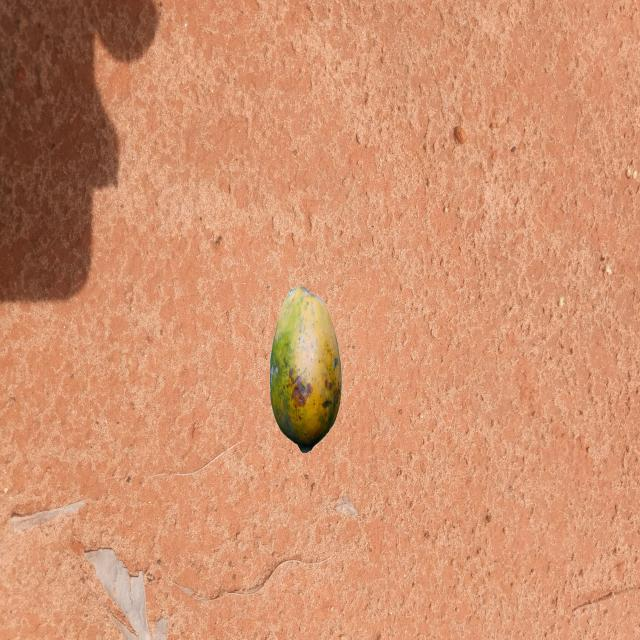Pepaya rippen: (262, 279, 346, 458)
